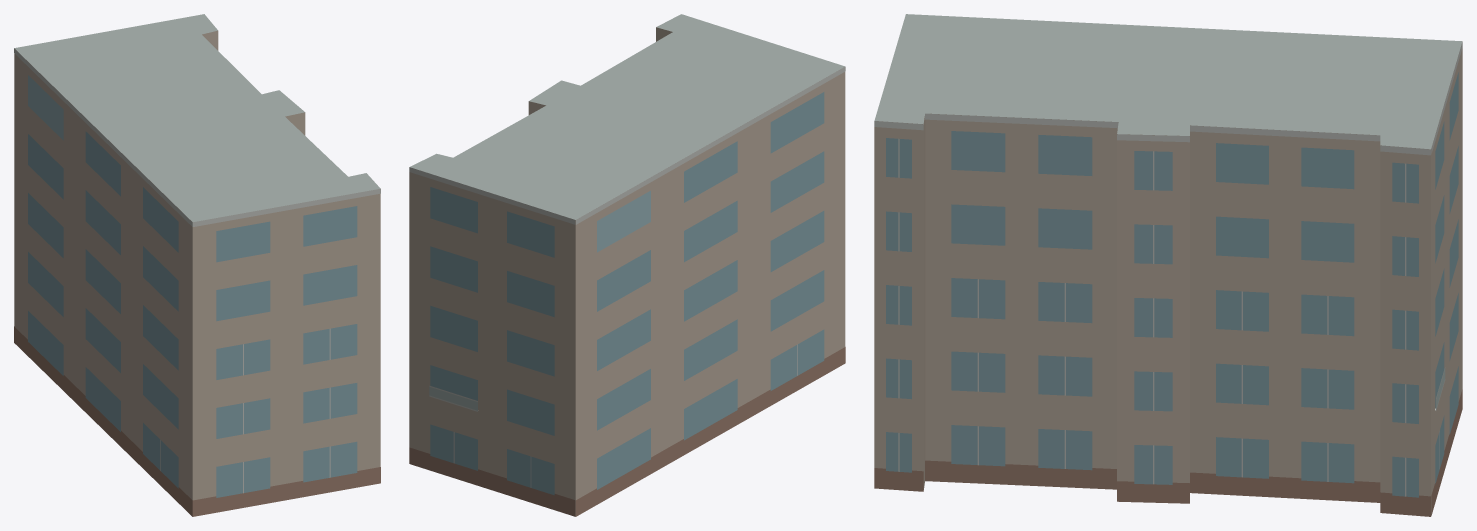
The model's file is survey-upis-32751303.glb.
The picture shows the model from 3 angles, left to right: view 1: azimuth 30°, elevation 25°; view 2: azimuth 150°, elevation 25°; view 3: azimuth 270°, elevation 25°; orthographic projection. The views are drawn at different scales.
Parts seen in each view (by area): view 1: survey-upis-32751303.tmp; view 2: survey-upis-32751303.tmp; view 3: survey-upis-32751303.tmp.
Part boxes in pixels (<box>): survey-upis-32751303.tmp: <box>14,14,380,516</box>; survey-upis-32751303.tmp: <box>409,14,845,516</box>; survey-upis-32751303.tmp: <box>874,14,1462,516</box>.
Bounding box in the file's own units: 11.54 × 14.6 × 21.18.
